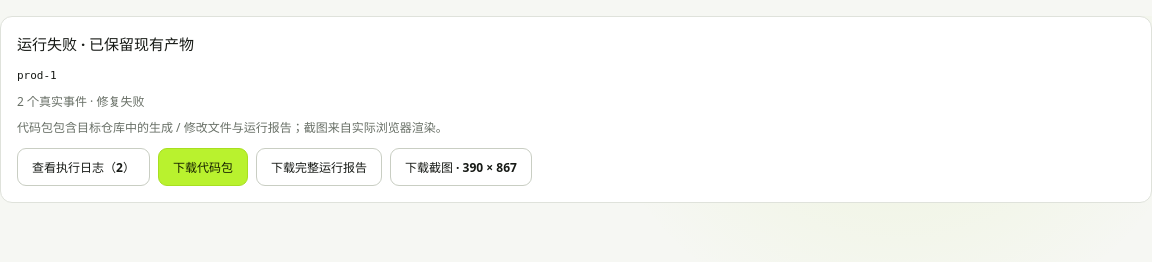
没有代码快照时显示原因且不产生空 ZIP，支持再次下载
The image size is (1152, 262).
Click the button "下载代码包" at (203, 167), box [158,148,248,186]
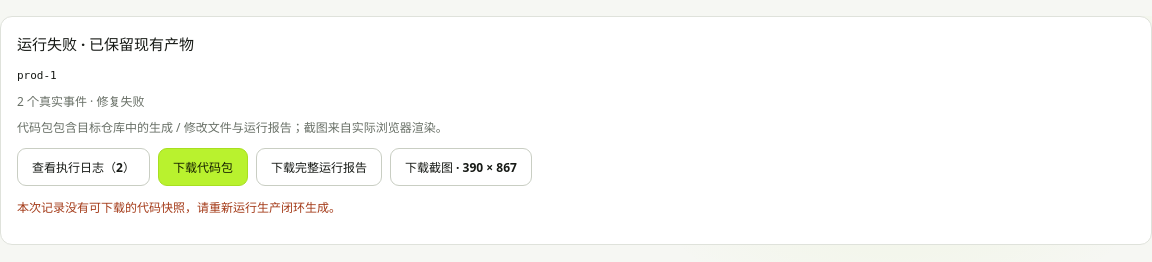
Result: the message shows "没有可下载的代码快照" at [17,199,341,216]
